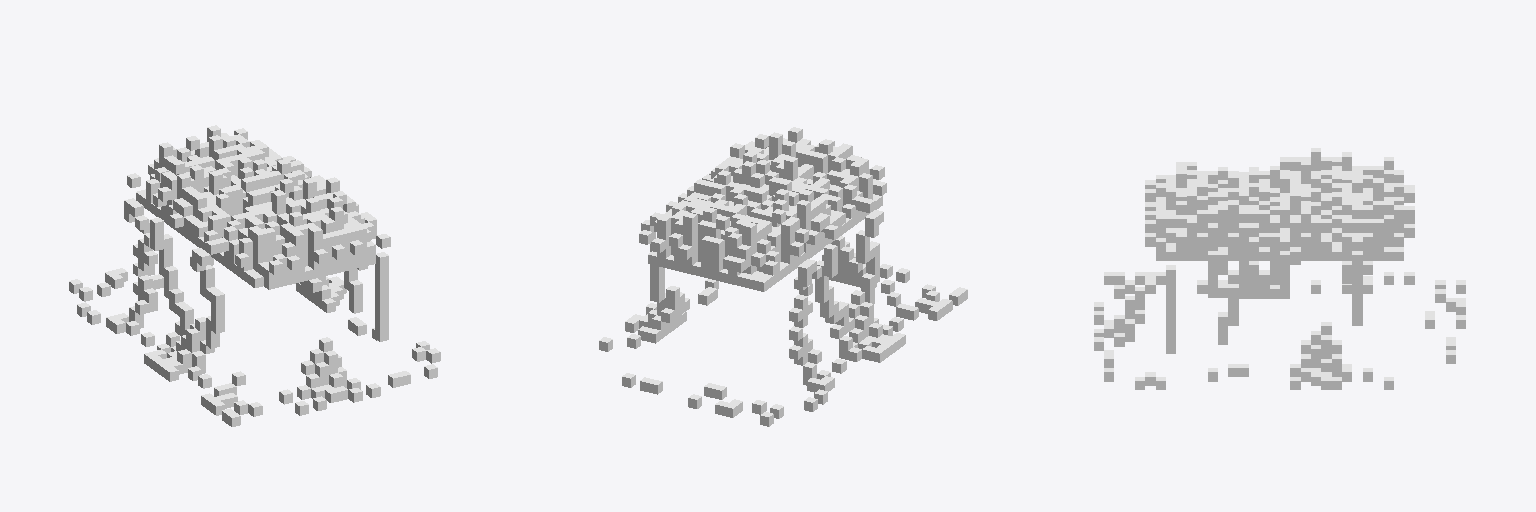
Rendered from Desert-62-Treasure_Interior.obj.
3 renders of one model, left to right at view 1: azimuth 30°, elevation 25°; view 2: azimuth 150°, elevation 25°; view 3: azimuth 270°, elevation 25°, orthographic.
Parts seen in each view (by area): view 1: Treasure_Interior; view 2: Treasure_Interior; view 3: Treasure_Interior.
Part boxes in pixels (left/top/right/bottom): Treasure_Interior: left=69, top=125, right=440, bottom=426; Treasure_Interior: left=599, top=127, right=967, bottom=426; Treasure_Interior: left=1094, top=148, right=1465, bottom=389.
Size of the model in its own units: 2.5 by 1.7 by 3.6.